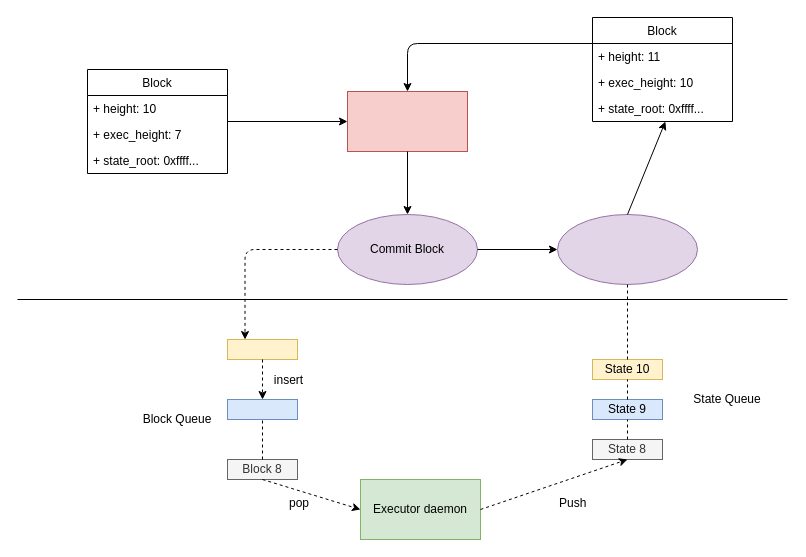
The diagram is 806 pixels wide and 557 high, and some of its shapes have lost their labels. The shapes that lost their labels are listed below. From the top down, each one's centre as x and y in pixels, then its label:
At point (407, 121): "Consensus".
At point (627, 249): "Package Block".
At point (262, 349): "Block 10".
At point (262, 409): "Block 9".
